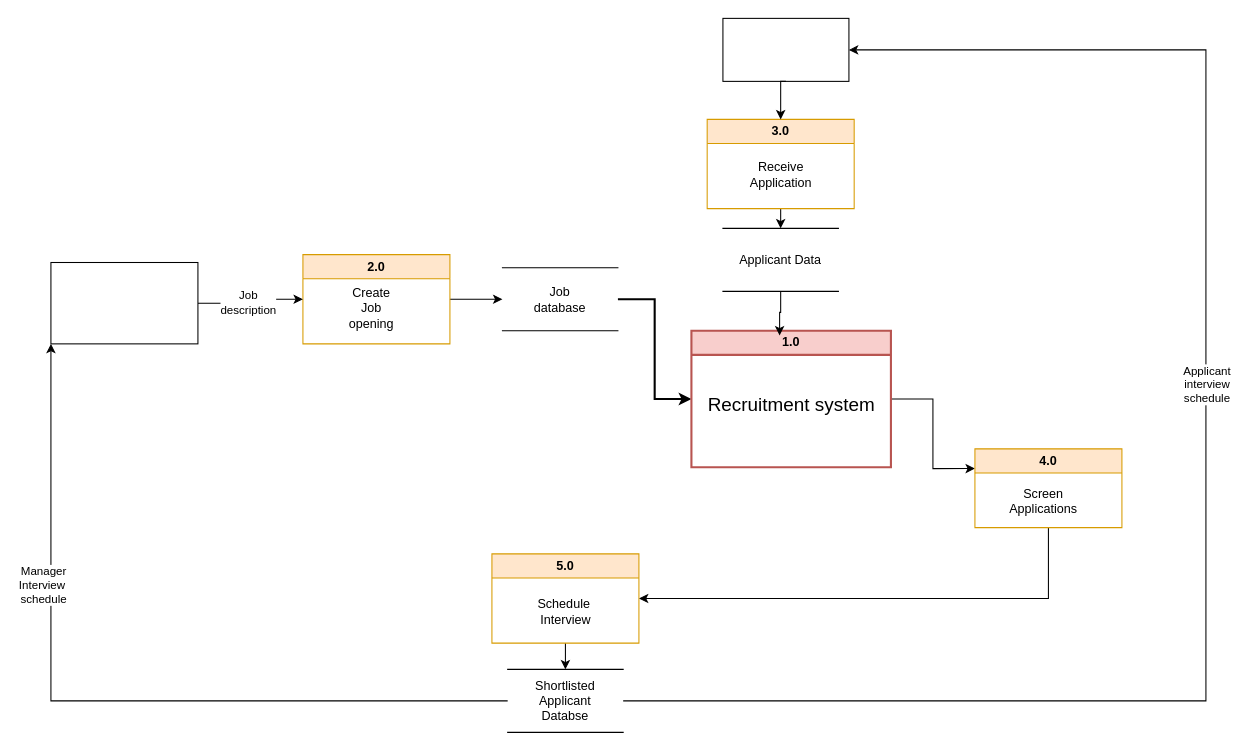
Image size: 1248x751. Some labels were removed from this diagram. The shapes that lost their labels are listed below. From the top down, each one's centre as x and y in pixels, then its label:
At (785,49): "Applicant".
At (124,302): "Manager".
